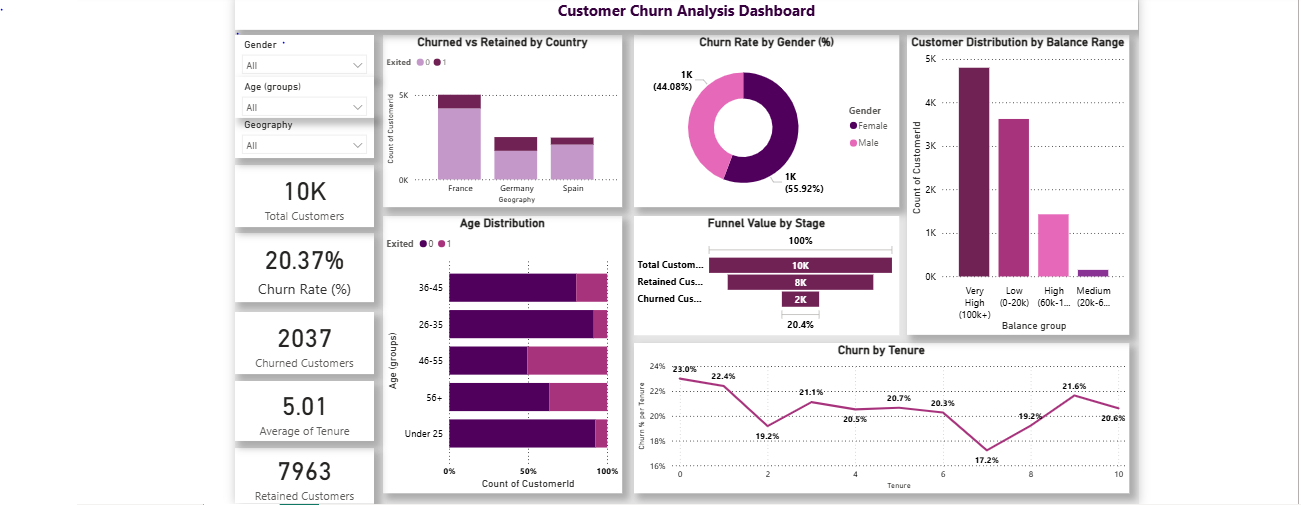

Layout of this report page (visuals, bound fields, positions):
{"tool":"powerbi","page":{"name":"Page 1","canvas":[1280,720],"ordinal":0},"visuals":[{"type":"hundredPercentStackedBarChart","title":"Age Distribution","fields":{"Series":["Churn_Modelling_file.Exited"],"Category":["Churn_Modelling_file.Age (groups)"],"Y":["CountNonNull(Churn_Modelling_file.CustomerId)"]},"box":[209.8,311.8,338.7,392.6],"z":0},{"type":"columnChart","title":"Churned vs Retained by Country","fields":{"Category":["Churn_Modelling_file.Geography"],"Y":["CountNonNull(Churn_Modelling_file.CustomerId)"],"Series":["Churn_Modelling_file.Exited"]},"box":[209.8,55.3,338.7,243.8],"z":1000},{"type":"lineChart","title":"Churn by Tenure","fields":{"Category":["Churn_Modelling_file.Tenure"],"Y":["Churn_Modelling_file.Churn % per Tenure"]},"box":[565.5,491.8,701.6,212.6],"z":2000},{"type":"donutChart","title":"Churn Rate by Gender (%)","fields":{"Category":["Churn_Modelling_file.Gender"],"Y":["Churn_Modelling_file.Churned Customers"]},"box":[565.5,55.3,375.6,243.8],"z":3000},{"type":"card","fields":{"Values":["Churn_Modelling_file.Churn Rate (%)"]},"box":[0,335.9,197,97.8],"z":5000},{"type":"funnel","fields":{"Category":["Table.Stage"],"Y":["Churn_Modelling_file.Funnel Value"]},"box":[565.5,311.8,375.6,168.7],"z":6000},{"type":"columnChart","title":"Customer Distribution by Balance Range","fields":{"Category":["Churn_Modelling_file.Balance group"],"Y":["CountNonNull(Churn_Modelling_file.CustomerId)"]},"box":[952.4,55.3,314.6,425.2],"z":7000},{"type":"textbox","box":[0,0,1279.8,48.2],"z":8000},{"type":"card","fields":{"Values":["Churn_Modelling_file.Churned Customers"]},"box":[0,447.9,197,87.9],"z":8001},{"type":"card","fields":{"Values":["Churn_Modelling_file.Total Customers"]},"box":[0,239.5,197,87.9],"z":8002},{"type":"card","fields":{"Values":["Churn_Modelling_file.Retained Customers"]},"box":[0,640.6,197,79.4],"z":8003},{"type":"card","fields":{"Values":["Avg(Churn_Modelling_file.Tenure)"]},"box":[0,545.7,197,85],"z":8004},{"type":"slicer","fields":{"Values":["Churn_Modelling_file.Gender"]},"box":[0,55.3,197,59.5],"z":8005},{"type":"slicer","fields":{"Values":["Churn_Modelling_file.Geography"]},"box":[0,168.7,197,60.9],"z":8006},{"type":"slicer","fields":{"Values":["Churn_Modelling_file.Age (groups)"]},"box":[0,114.8,197,58.1],"z":8007}]}

Visuals, with their boxes in screenshot pixels (x1, y1, x2, y2):
"Age Distribution" hundredPercentStackedBarChart: x1=377 y1=213 x2=620 y2=495
"Churned vs Retained by Country" columnChart: x1=377 y1=29 x2=620 y2=204
"Churn by Tenure" lineChart: x1=632 y1=342 x2=1135 y2=495
"Churn Rate by Gender (%)" donutChart: x1=632 y1=29 x2=902 y2=204
card - Churn_Modelling_file.Churn Rate (%): x1=227 y1=231 x2=368 y2=301
funnel - Table.Stage x Churn_Modelling_file.Funnel Value: x1=632 y1=213 x2=902 y2=334
"Customer Distribution by Balance Range" columnChart: x1=910 y1=29 x2=1135 y2=334
textbox: x1=227 y1=0 x2=1144 y2=24
card - Churn_Modelling_file.Churned Customers: x1=227 y1=311 x2=368 y2=374
card - Churn_Modelling_file.Total Customers: x1=227 y1=162 x2=368 y2=225
card - Churn_Modelling_file.Retained Customers: x1=227 y1=449 x2=368 y2=504
card - Avg(Churn_Modelling_file.Tenure): x1=227 y1=381 x2=368 y2=442
slicer - Churn_Modelling_file.Gender: x1=227 y1=29 x2=368 y2=72
slicer - Churn_Modelling_file.Geography: x1=227 y1=111 x2=368 y2=154
slicer - Churn_Modelling_file.Age (groups): x1=227 y1=72 x2=368 y2=114
